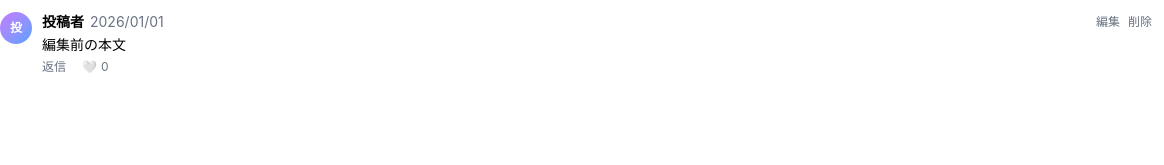
Scenario: CommentThread › キャンセルすると編集前の本文に戻る
Click the button "編集": (1108, 22) [1096,14,1120,30]
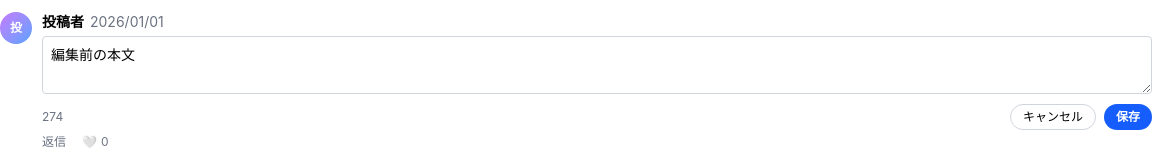
Replace the text in the text box with "書きかけ": (597, 65) [42,36,1152,94]
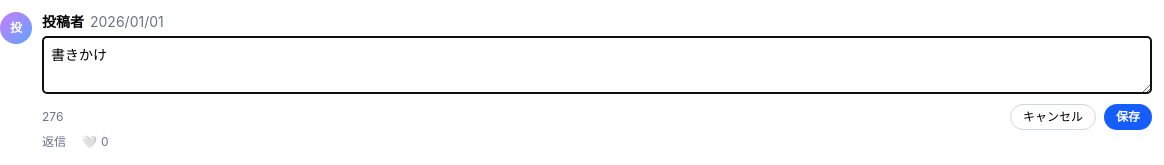
Click the button "キャンセル": (1053, 117) [1010,104,1096,130]
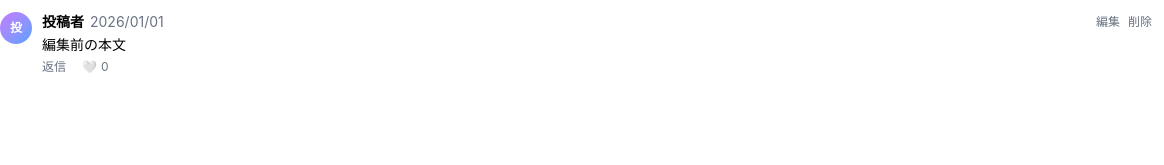
Check: the text "編集前の本文" is shown, box [42,36,126,53]
